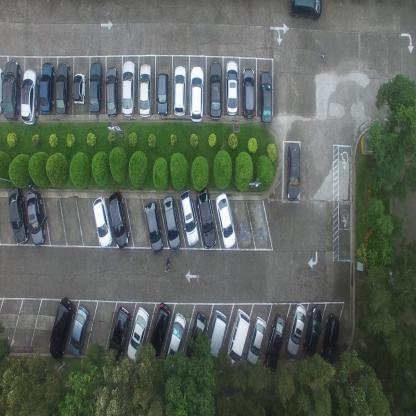car: (49, 296, 75, 360), (262, 314, 288, 376), (225, 308, 250, 367), (204, 309, 226, 372), (126, 305, 150, 362), (148, 300, 171, 359), (196, 185, 217, 248), (7, 186, 29, 245), (108, 190, 130, 248), (286, 302, 308, 358), (215, 191, 236, 249), (164, 310, 186, 365), (108, 306, 130, 361), (179, 189, 199, 247), (143, 199, 164, 254), (2, 58, 20, 121), (26, 190, 46, 246), (162, 194, 181, 252), (69, 305, 90, 357), (92, 196, 113, 248), (20, 68, 39, 125), (186, 310, 207, 360), (246, 315, 266, 366), (304, 306, 324, 356), (323, 314, 342, 366), (286, 141, 301, 201), (121, 59, 136, 118), (224, 57, 239, 115), (189, 65, 204, 123), (208, 58, 222, 119), (38, 62, 54, 114), (138, 63, 153, 118), (240, 65, 255, 118), (55, 62, 70, 115), (259, 68, 273, 124), (105, 65, 119, 118), (173, 66, 187, 118), (89, 62, 103, 114), (288, 0, 322, 20), (156, 72, 170, 116), (72, 72, 86, 106), (0, 65, 4, 116)
